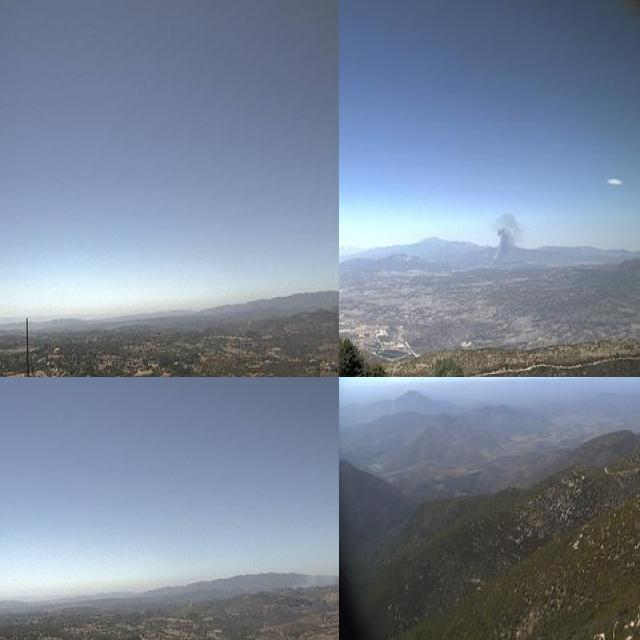smoke: (482, 206, 524, 273), (287, 561, 339, 591)
